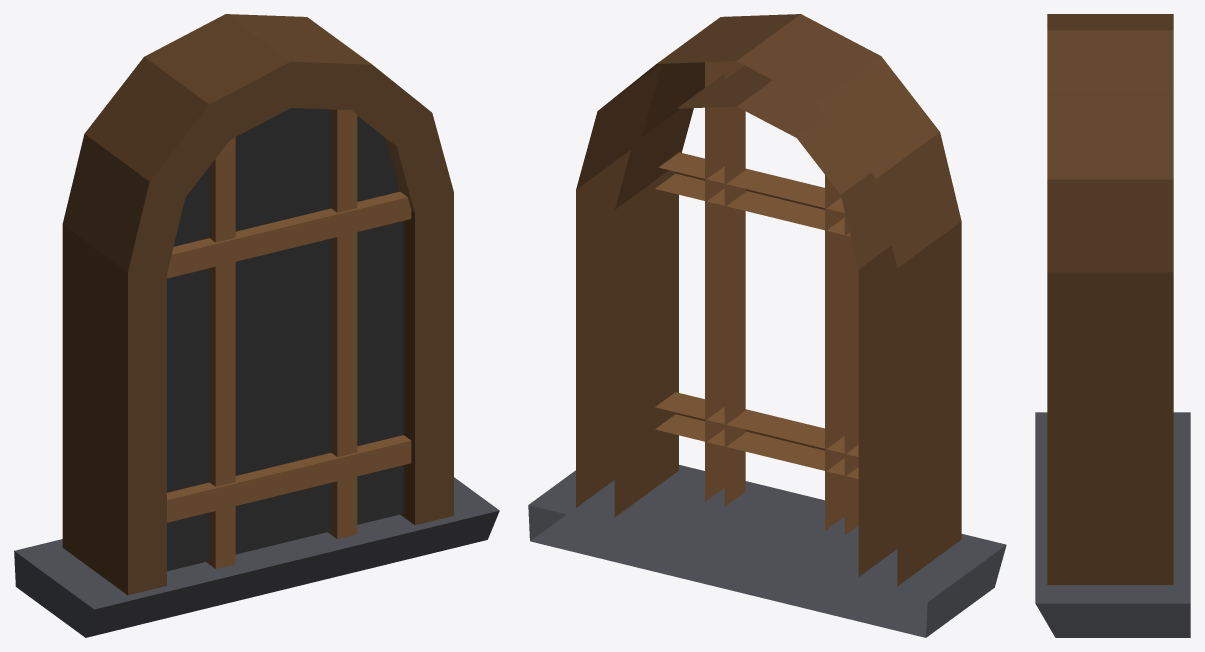
File: Window_4.glb
3 views of the same model, side by side, from view 1: azimuth 30°, elevation 25°; view 2: azimuth 150°, elevation 25°; view 3: azimuth 270°, elevation 25° (orthographic). The views are drawn at different scales.
Visible parts, largest first — view 1: Window_4_Cylinder.029; view 2: Window_4_Cylinder.029; view 3: Window_4_Cylinder.029.
Boxes of the visible parts, bbox=[...] form: Window_4_Cylinder.029: bbox=[14, 14, 499, 637]; Window_4_Cylinder.029: bbox=[528, 14, 1006, 637]; Window_4_Cylinder.029: bbox=[1035, 14, 1190, 637].
Size of the model in its own units: 0.447 by 0.5585 by 0.1532.
